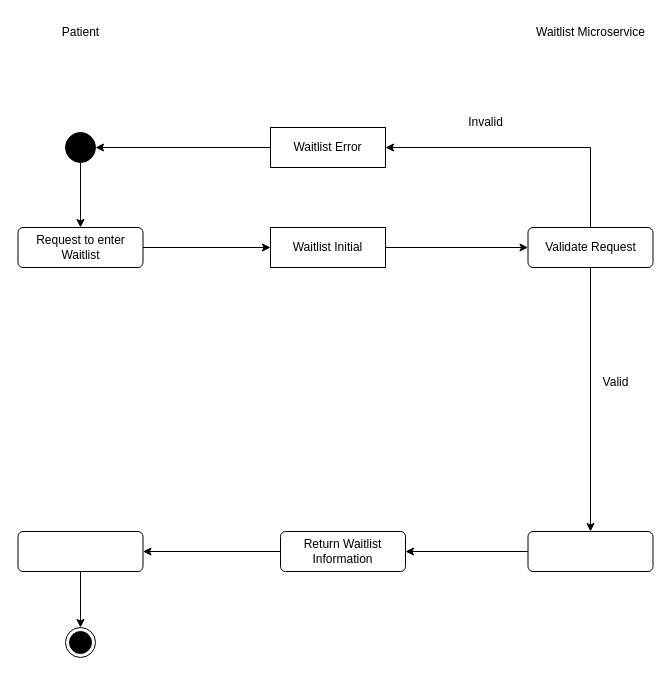
Some shapes in this 672 by 675 pixel diagram are drawn without their labels. The box of each missing label's shape, as (x1, y1, x2, y2) in pixels:
Enter Patient into Waitlist: (527, 530, 653, 572)
Show Patient Waitlist Information: (17, 530, 143, 572)
